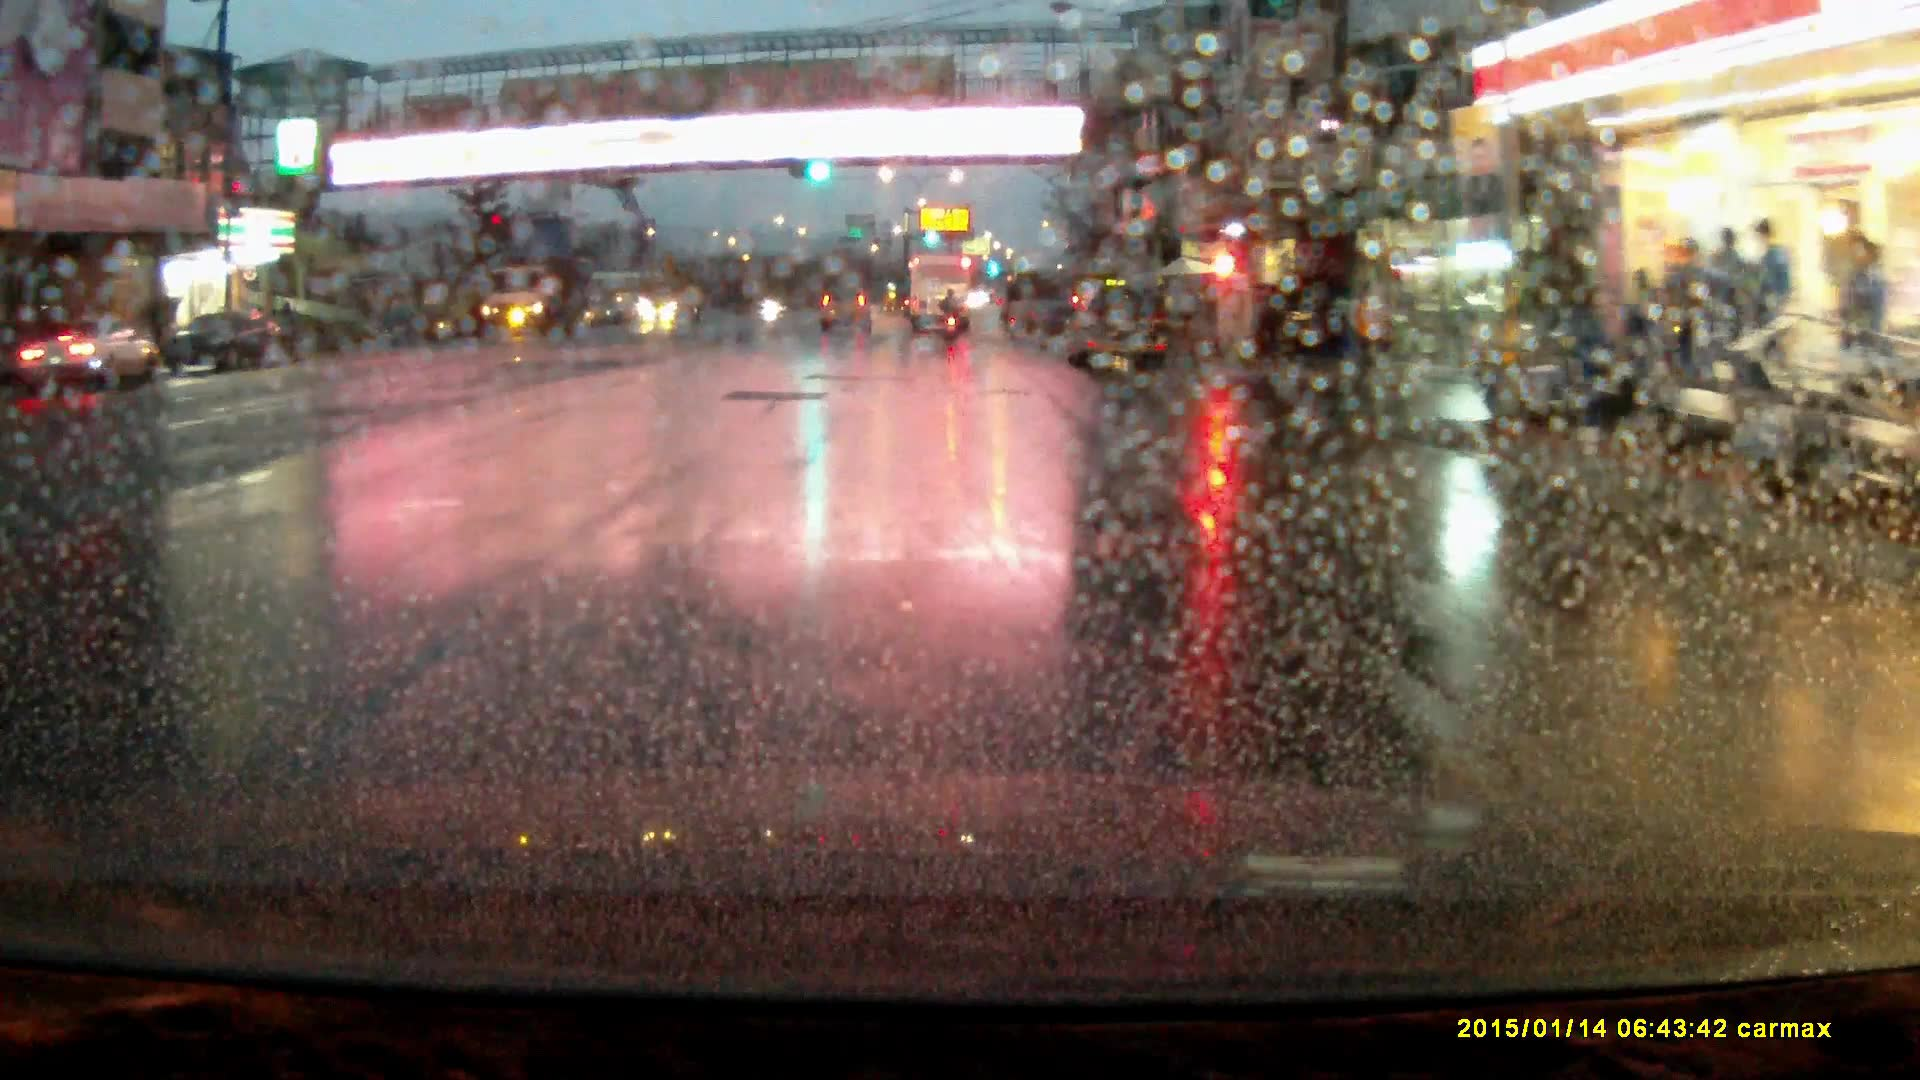rider: (941, 285, 964, 343)
vehicle: (28, 317, 149, 394), (1065, 287, 1165, 379), (159, 311, 292, 379), (479, 262, 587, 340), (1255, 282, 1343, 359), (909, 257, 975, 335), (638, 281, 706, 327), (820, 290, 874, 337)
